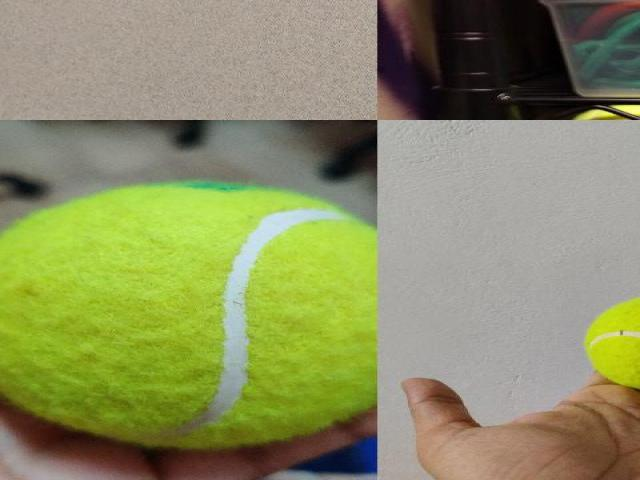tennis-ball: (0, 182, 376, 447), (581, 293, 639, 396)
